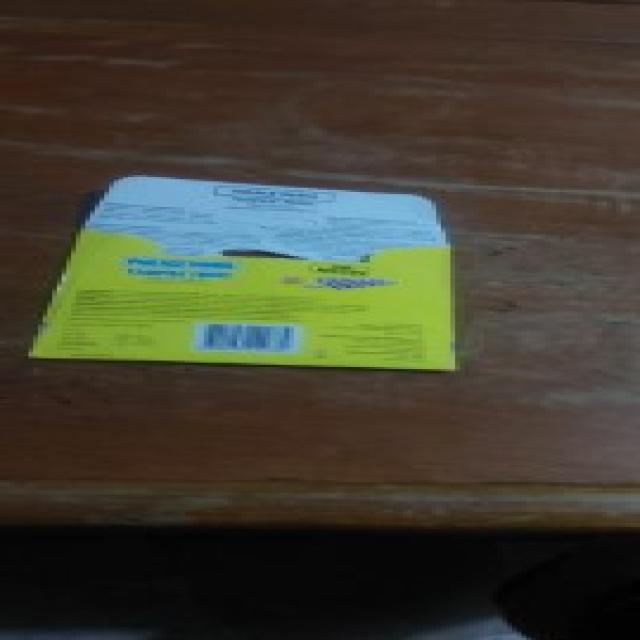Cacat: (32, 175, 465, 373)
